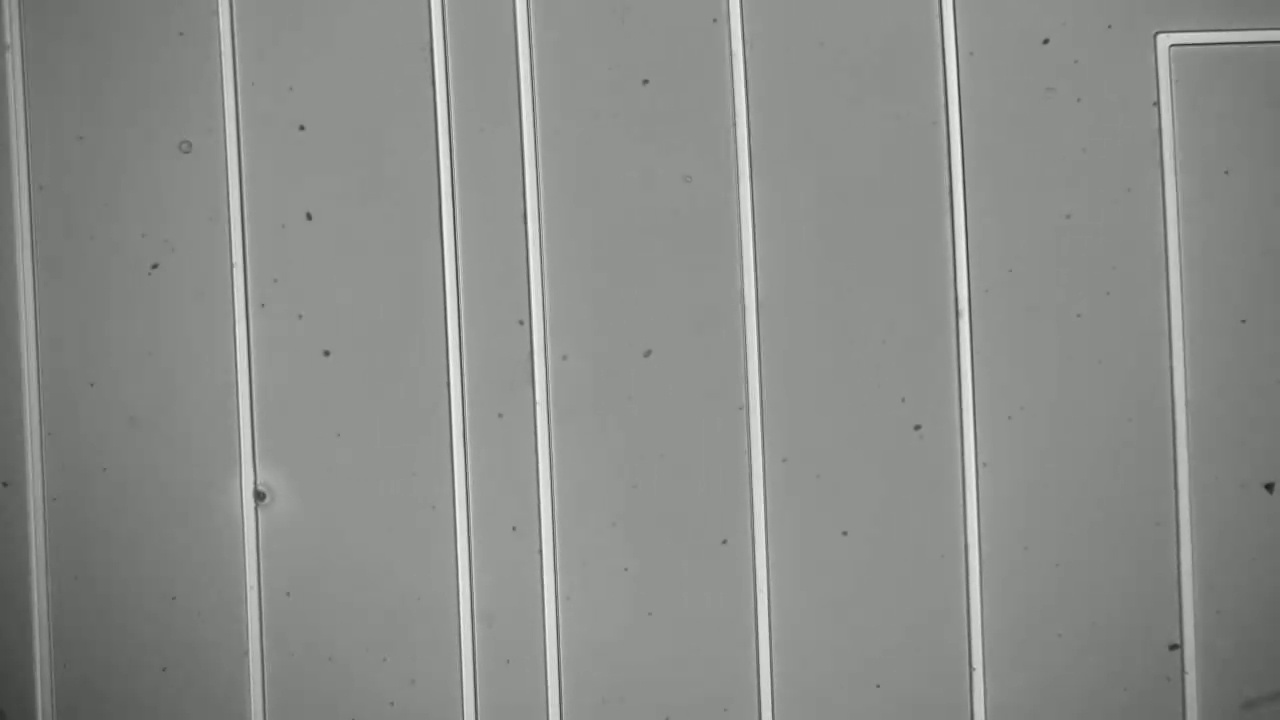stains_enbedded: (239, 480, 272, 515)
